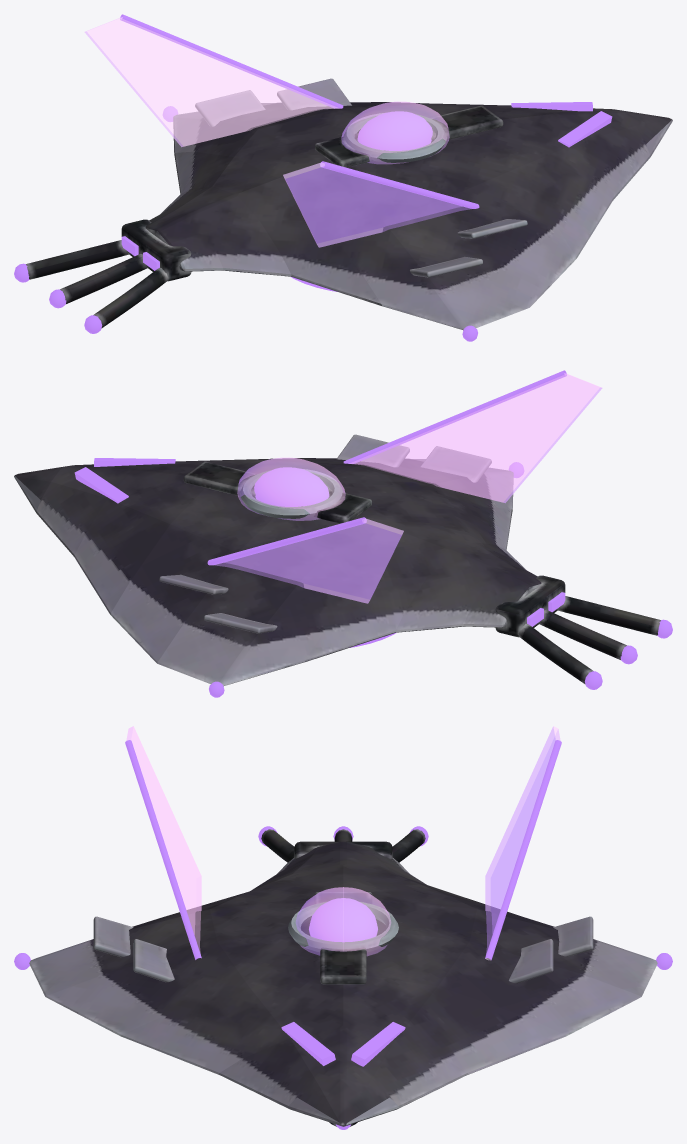
File: phantom.glb
3 views of the same model, one above another, from view 1: azimuth 30°, elevation 25°; view 2: azimuth 150°, elevation 25°; view 3: azimuth 270°, elevation 25° (orthographic). The views are drawn at different scales.
Visible parts, largest first — view 1: Hull, Cloak; view 2: Hull, Cloak; view 3: Hull, Cloak.
Part boxes in pixels (x1,y1,x2,y2): Hull: [14, 14, 672, 341]; Cloak: [84, 17, 470, 247]; Hull: [14, 370, 672, 697]; Cloak: [214, 373, 602, 603]; Hull: [14, 740, 672, 1129]; Cloak: [126, 726, 560, 960].
Bounding box in the file's own units: 2.66 × 0.8218 × 2.28.
5 materials, 2 textured.
